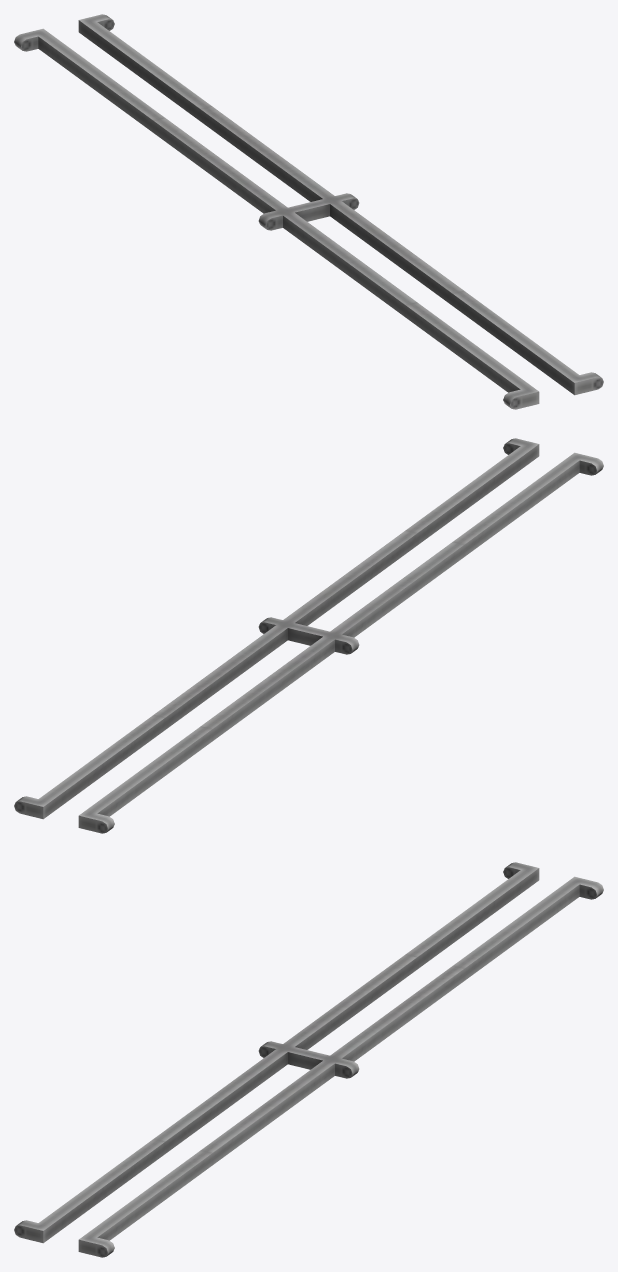
Rendered from eridani_solar_long_arm.obj.
3 views of the same model, one above another, from view 1: azimuth 30°, elevation 25°; view 2: azimuth 150°, elevation 25°; view 3: azimuth 330°, elevation 25° (orthographic).
Parts seen in each view (by area): view 1: mesh1; view 2: mesh1; view 3: mesh1.
Boxes of the visible parts, x1=… form: mesh1: x1=14, y1=14, x2=603, y2=409; mesh1: x1=14, y1=438, x2=603, y2=833; mesh1: x1=14, y1=862, x2=603, y2=1257.
Size of the model in its own units: 0.2 by 0.025 by 1.83.
Materials: 1 (1 with a texture image).
